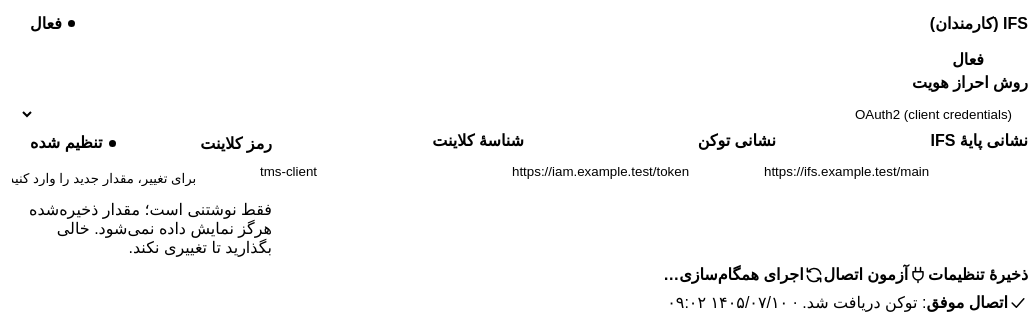
secret fields are write-only › auth-mode selector swaps the credential fields
This screenshot has width=1036, height=329.
Select "Basic" in the dropdown labelled "روش احراز هویت" at (524, 114), box [20,98,1028,130]
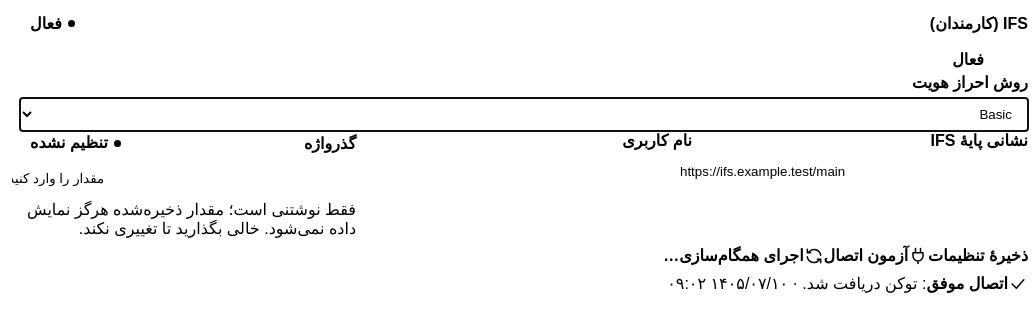
Result: the label labelled "رمز کلاینت" is gone
